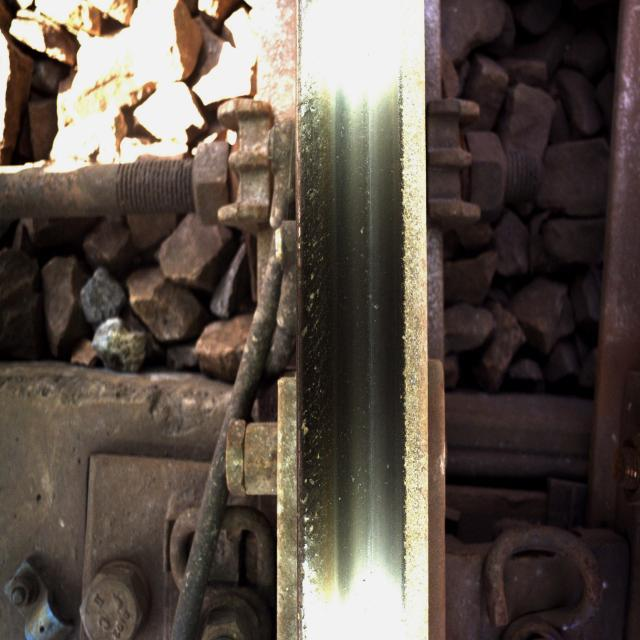scar: (296, 56, 374, 569)
